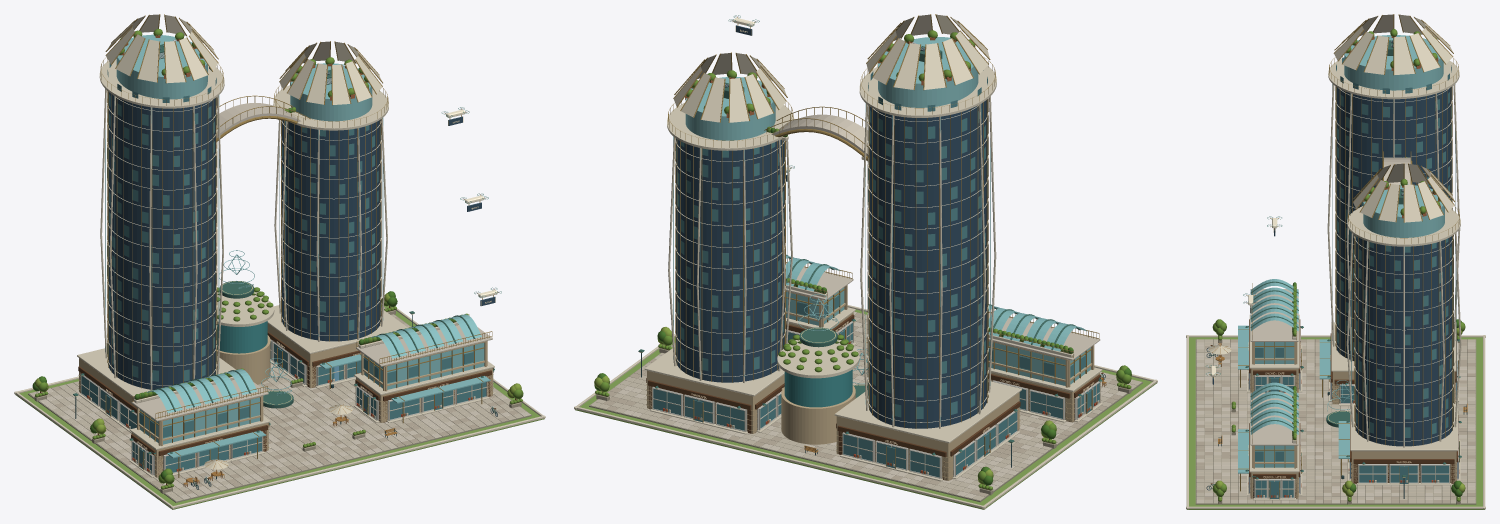
Rendered from level-10.glb.
3 renders of one model, left to right at view 1: azimuth 30°, elevation 25°; view 2: azimuth 150°, elevation 25°; view 3: azimuth 270°, elevation 25°, orthographic. The views are drawn at different scales.
Visible parts, largest first — view 1: finance_level_10_geometry, crown_ribbon_glass_finance_mint; view 2: finance_level_10_geometry, crown_ribbon_glass_finance_mint; view 3: finance_level_10_geometry, crown_ribbon_glass_finance_mint.
Boxes of the visible parts, bbox=[...] form: finance_level_10_geometry: bbox=[14, 14, 545, 509]; crown_ribbon_glass_finance_mint: bbox=[105, 95, 383, 385]; finance_level_10_geometry: bbox=[574, 14, 1157, 509]; crown_ribbon_glass_finance_mint: bbox=[673, 103, 990, 422]; finance_level_10_geometry: bbox=[1186, 14, 1485, 509]; crown_ribbon_glass_finance_mint: bbox=[1332, 84, 1456, 442].
Bounding box in the file's own units: 60 × 58.05 × 44.
